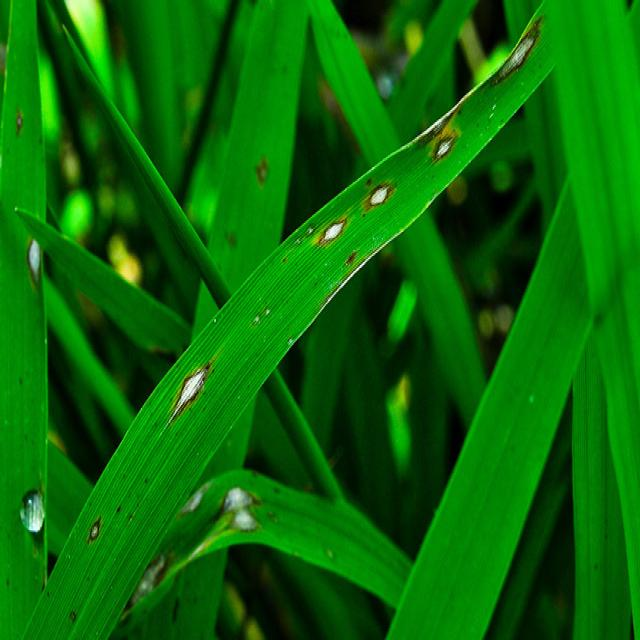Rice_Blast: (481, 14, 553, 92), (126, 548, 174, 618), (219, 486, 261, 539), (428, 123, 468, 171), (24, 229, 54, 288), (308, 216, 355, 250), (361, 177, 401, 213), (183, 494, 217, 523), (13, 110, 31, 150)
